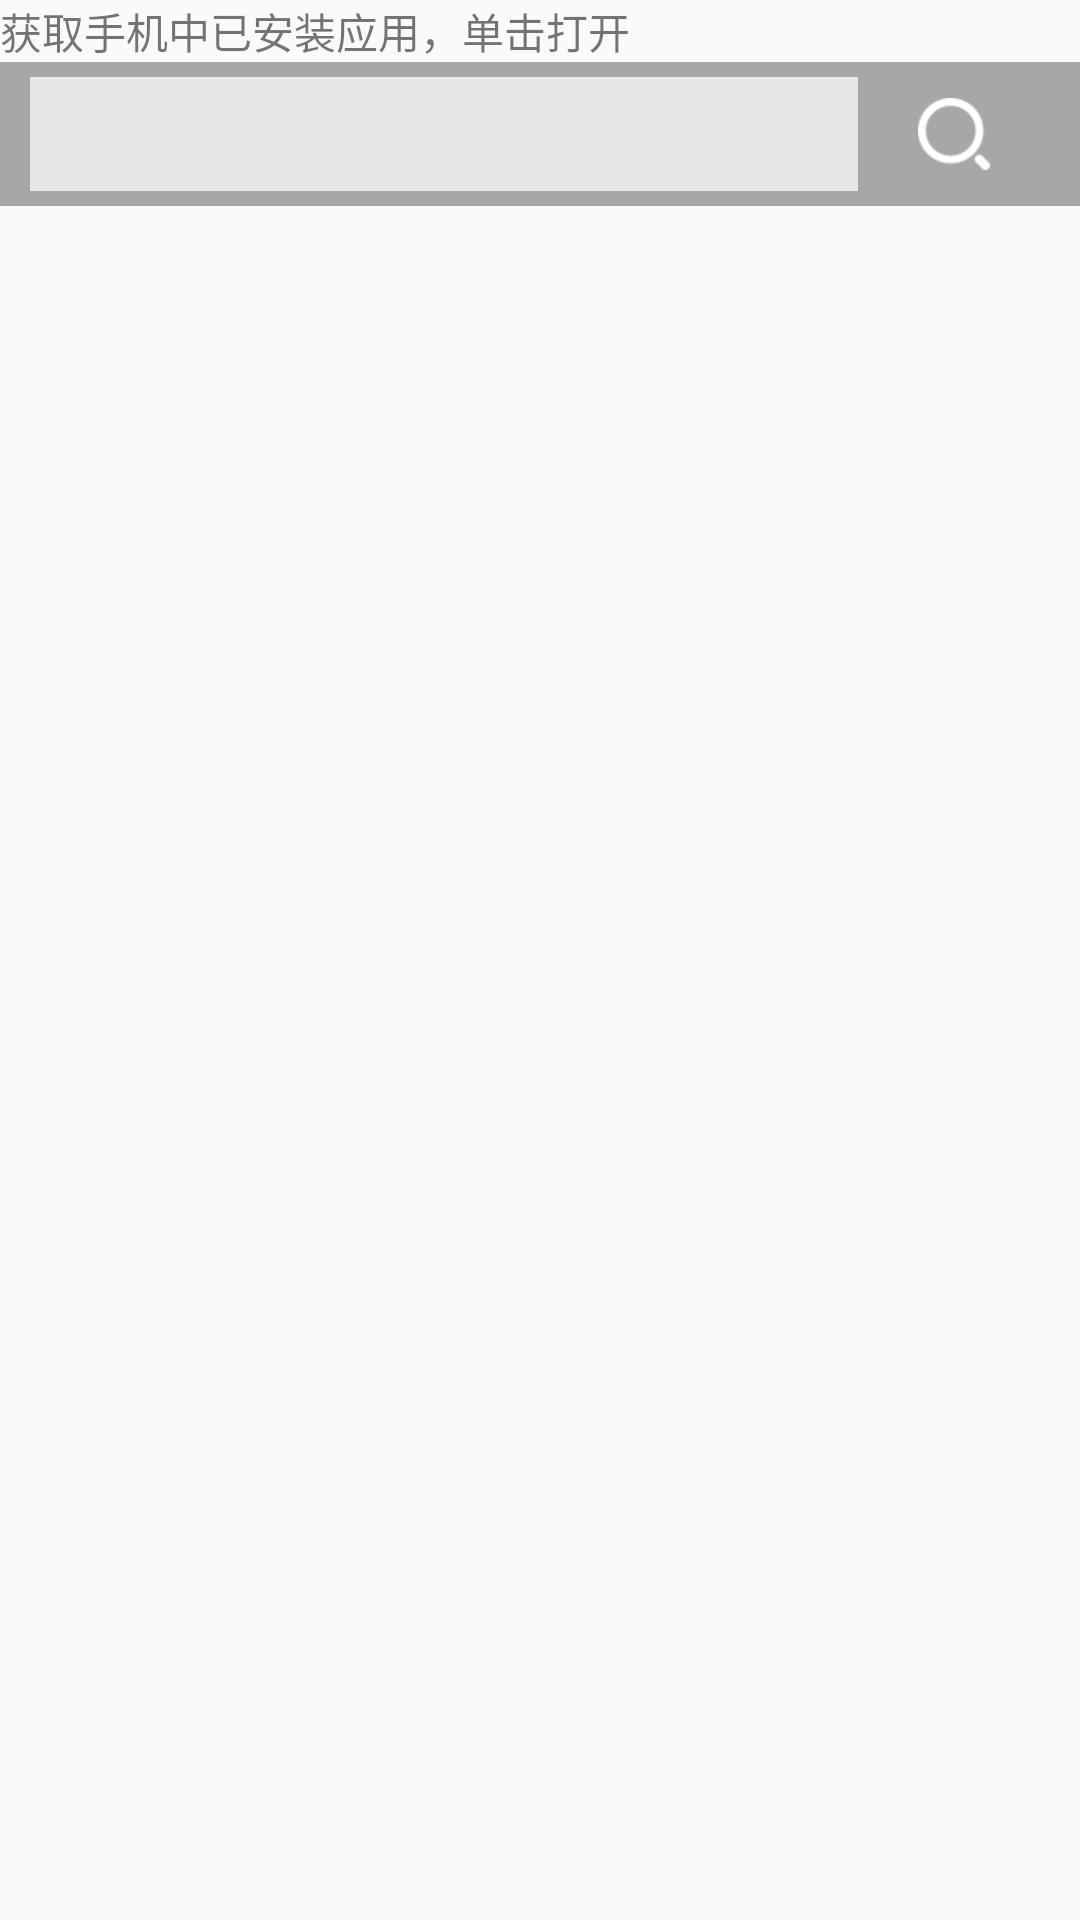

Where icons sit on this 1080*1920 app screen, as Rect(x1, y1, x2, y2):
search: Rect(918, 98, 990, 170)
